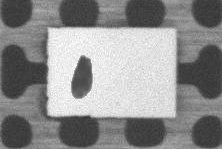DIE_INK: (69, 55, 93, 98)
